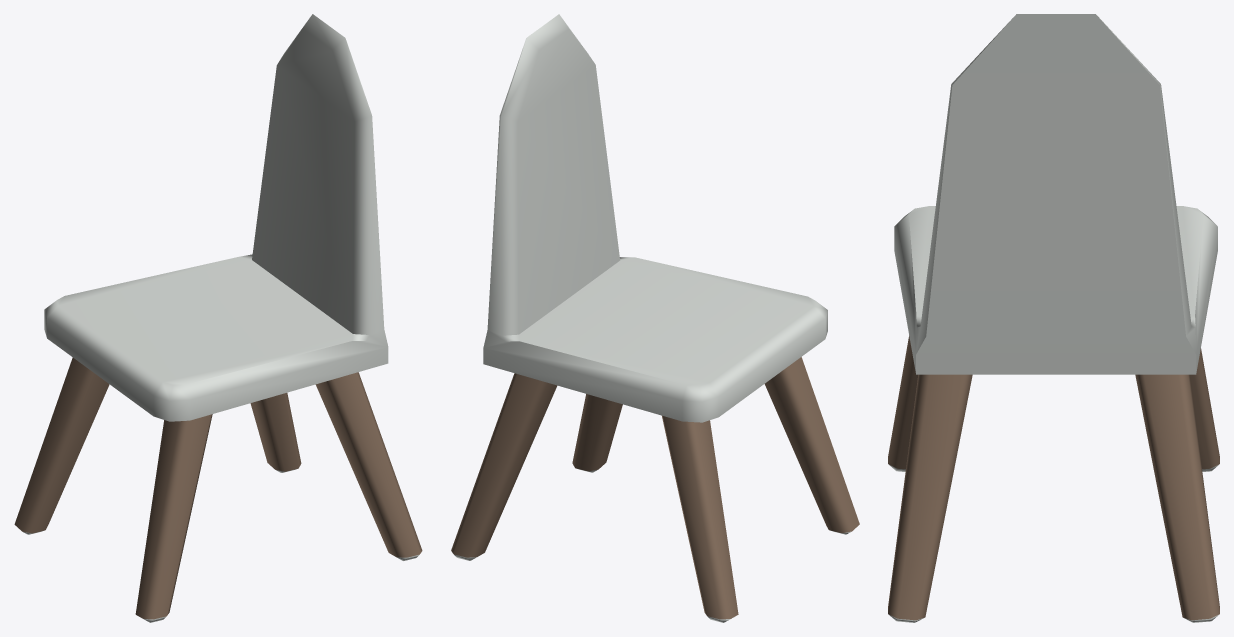
File: Silla_Cuarto.fbx
3 views of the same model, side by side, from view 1: azimuth 30°, elevation 25°; view 2: azimuth 150°, elevation 25°; view 3: azimuth 270°, elevation 25° (orthographic). The views are drawn at different scales.
Visible parts, largest first — view 1: Silla; view 2: Silla; view 3: Silla.
Boxes of the visible parts, box(x1,y1,x2,y2) form: Silla: box(14, 14, 422, 622); Silla: box(451, 14, 859, 622); Silla: box(888, 14, 1219, 622).
Bounding box in the file's own units: 0.4506 × 0.7567 × 0.3816.
